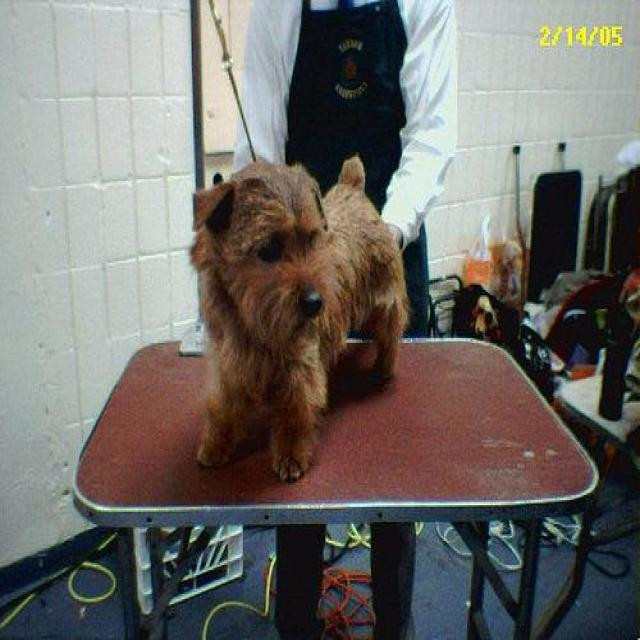dogs: (175, 128, 423, 465)
